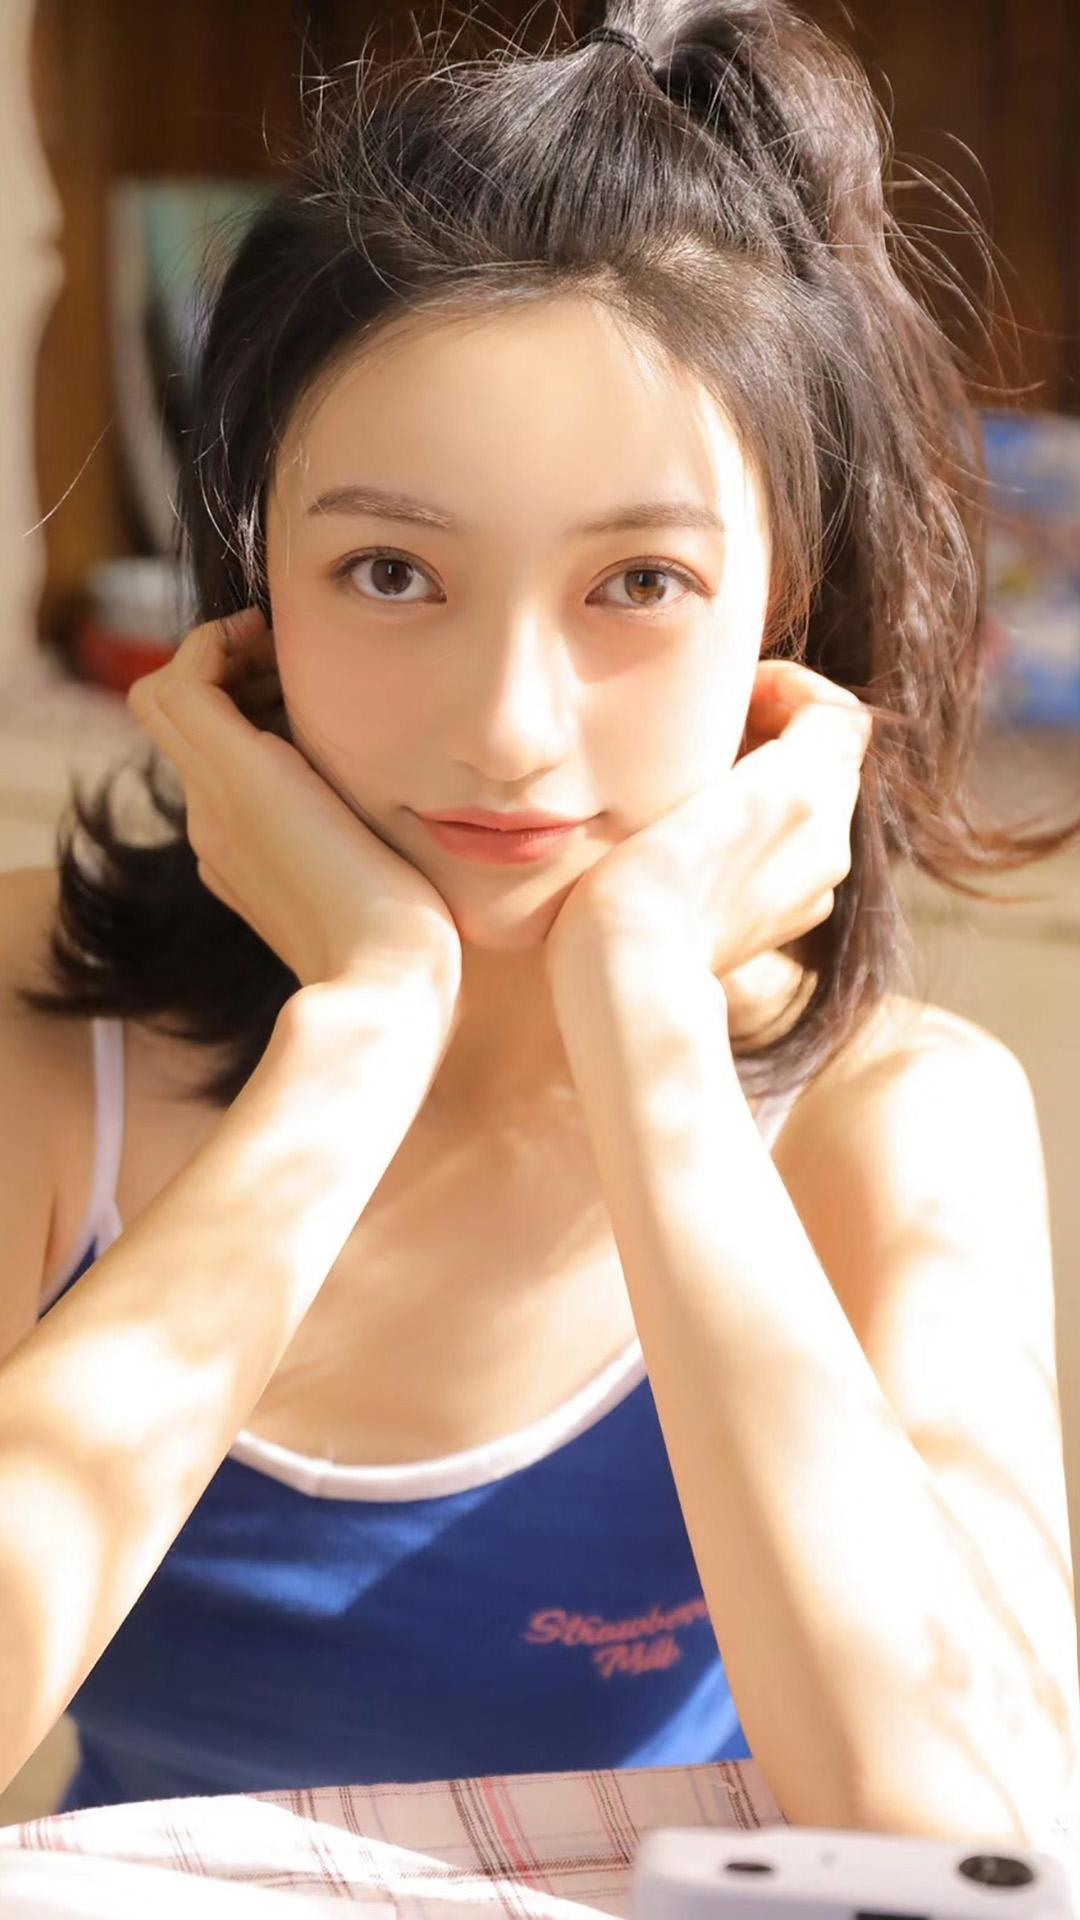person: (169, 1, 983, 1788)
